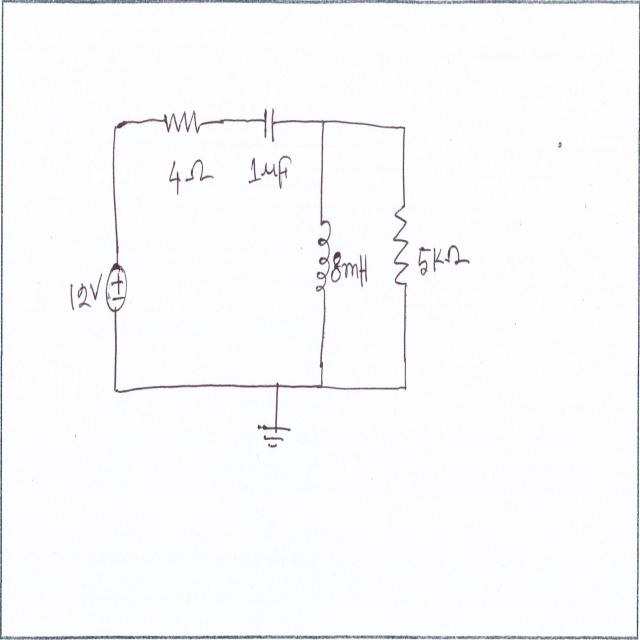capacitor: (257, 97, 279, 143)
ground: (254, 411, 295, 454)
inductor: (314, 216, 332, 304)
resistor: (391, 201, 412, 295), (159, 104, 206, 140)
voltage_source: (103, 258, 128, 318)
